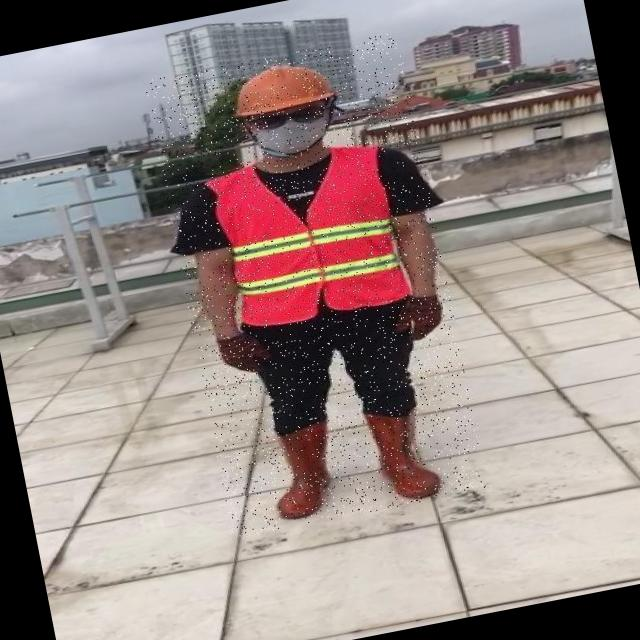hard_hat: (228, 56, 336, 120)
safety_vest: (203, 141, 411, 331)
vehicle: (145, 32, 488, 539)
work_boots: (356, 397, 446, 507), (260, 420, 344, 522)
